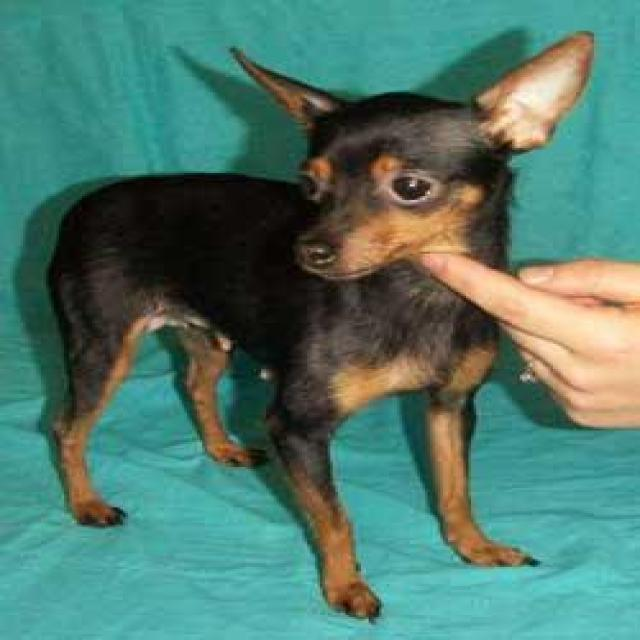toy_terrier: (41, 31, 594, 624)
